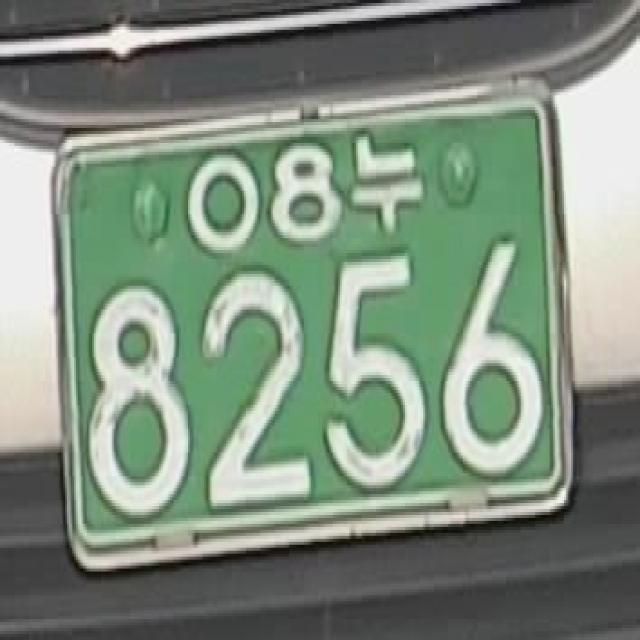illegal_plate: (42, 82, 594, 583)
